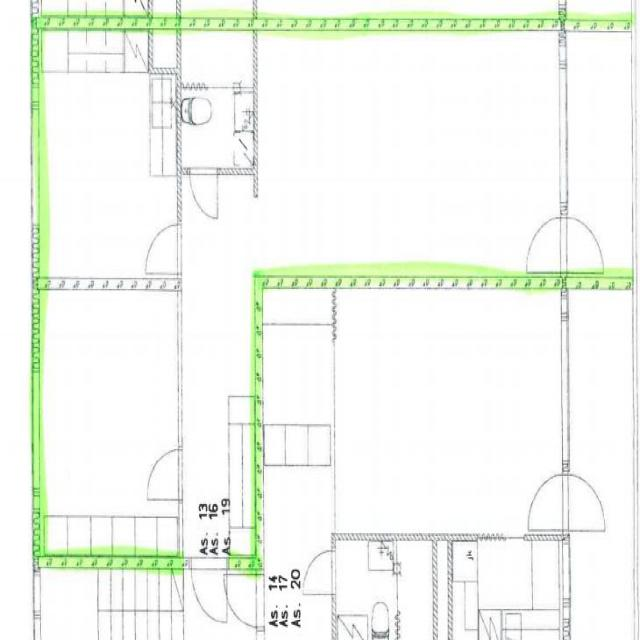door: (524, 218, 567, 272), (560, 218, 602, 272), (192, 558, 226, 624), (144, 449, 182, 500), (145, 225, 181, 274), (189, 168, 217, 219)
